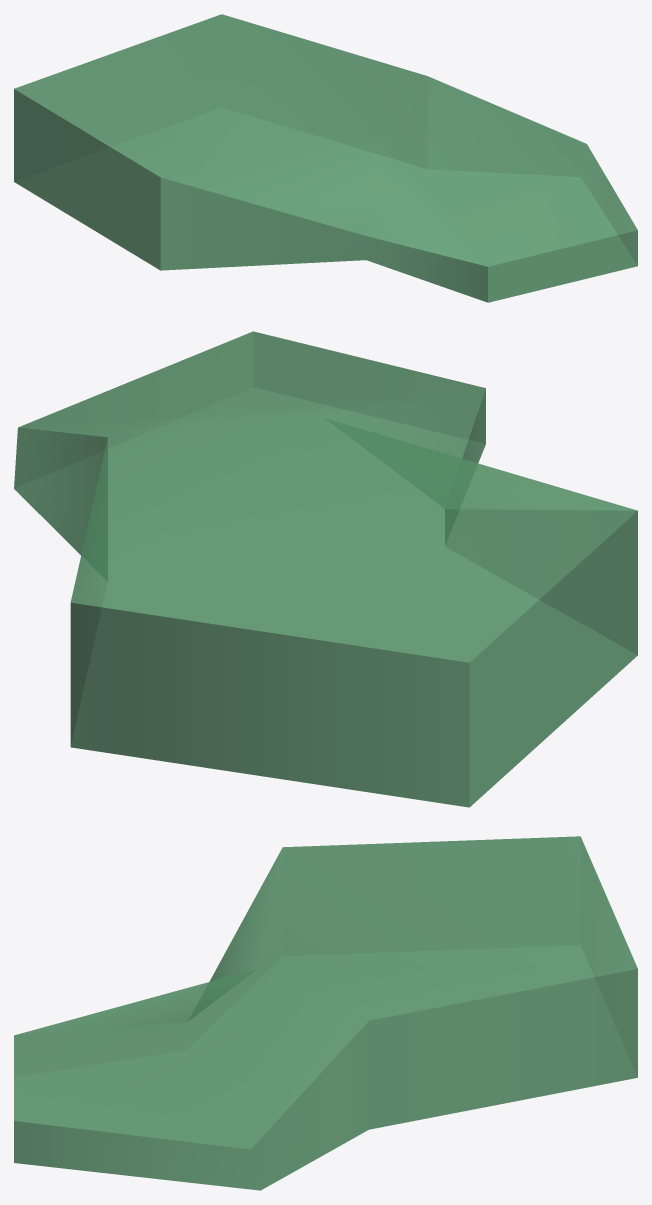
File: Scree_02_Collider_B.fbx
3 views of the same model, one above another, from view 1: azimuth 30°, elevation 25°; view 2: azimuth 150°, elevation 25°; view 3: azimuth 270°, elevation 25° (orthographic). The views are drawn at different scales.
Parts seen in each view (by area): view 1: Scree_02_Collider_B; view 2: Scree_02_Collider_B; view 3: Scree_02_Collider_B.
Boxes of the visible parts, x1=… form: Scree_02_Collider_B: x1=14, y1=14, x2=637, y2=302; Scree_02_Collider_B: x1=14, y1=331, x2=637, y2=807; Scree_02_Collider_B: x1=14, y1=836, x2=637, y2=1190.
Bounding box in the file's own units: 752 × 155 × 805.
